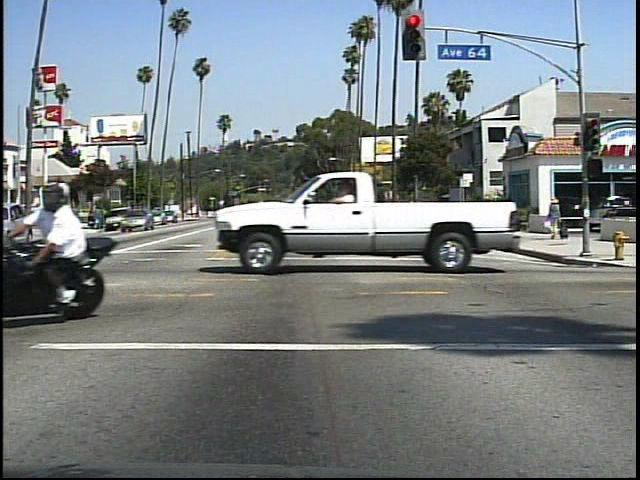person: (26, 177, 107, 311), (542, 195, 566, 241)
